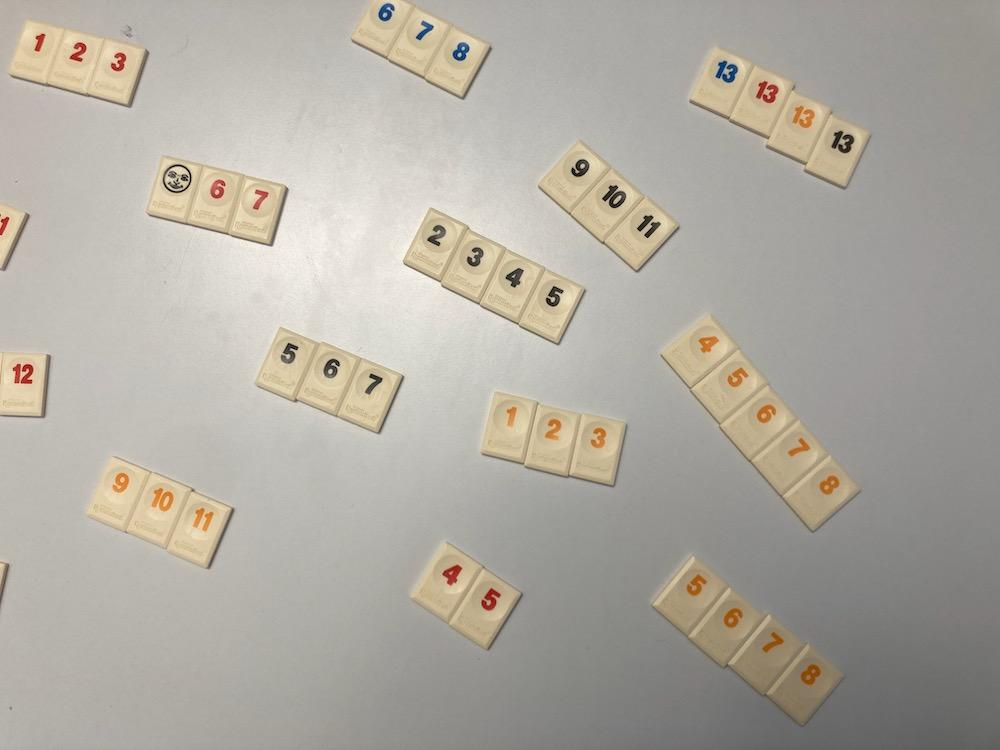black_10: (572, 170, 643, 242)
black_11: (605, 197, 678, 270)
black_13: (805, 115, 869, 188)
black_2: (404, 209, 467, 281)
black_3: (441, 230, 504, 303)
black_4: (480, 250, 543, 322)
black_5: (520, 271, 584, 344), (256, 328, 318, 400)
black_6: (298, 344, 359, 414)
black_7: (340, 359, 402, 432)
black_9: (539, 141, 609, 213)
blue_13: (689, 47, 752, 117)
blue_6: (352, 0, 414, 57)
blue_7: (389, 8, 449, 76)
blue_8: (426, 27, 490, 98)
joker: (148, 156, 203, 223)
orange_1: (480, 393, 537, 463)
orange_10: (127, 473, 191, 547)
orange_11: (168, 492, 232, 568)
orange_13: (768, 92, 830, 162)
orange_2: (527, 406, 580, 475)
orange_3: (570, 414, 625, 486)
orange_4: (662, 314, 738, 387)
orange_5: (652, 557, 727, 635), (691, 350, 768, 422)
orange_6: (689, 588, 762, 666), (721, 387, 795, 459)
orange_7: (729, 615, 803, 695), (752, 422, 826, 494)
orange_8: (768, 645, 844, 725), (783, 455, 859, 531)
orange_9: (86, 457, 150, 531)
red_1: (8, 20, 64, 84)
red_11: (1, 203, 27, 270)
red_13: (731, 66, 793, 137)
red_2: (47, 29, 104, 94)
red_3: (88, 39, 146, 105)
red_4: (410, 543, 482, 621)
red_5: (451, 568, 521, 648)
red_6: (188, 166, 242, 232)
red_7: (229, 176, 285, 244)
